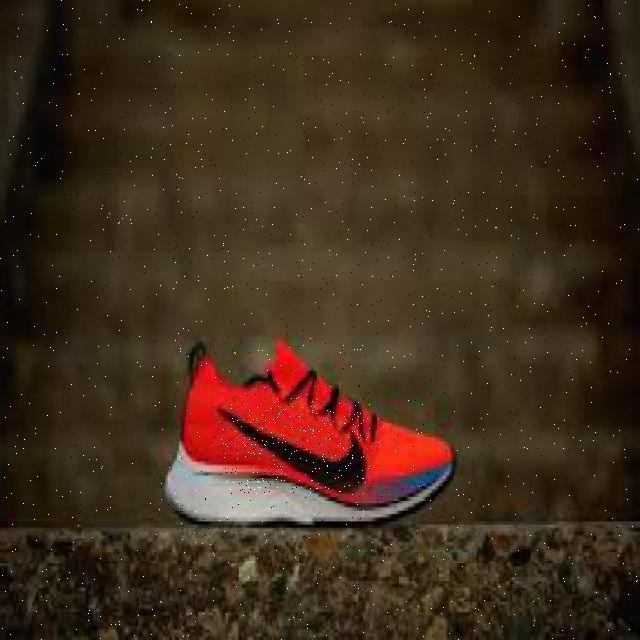Nike: (218, 398, 371, 494)
